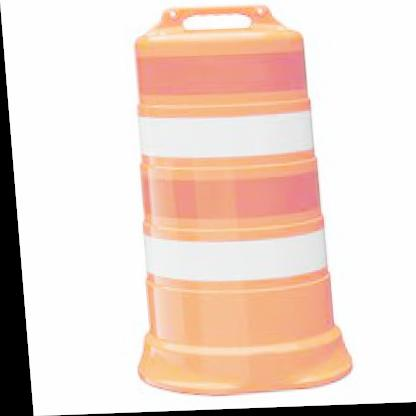obstacle: (121, 9, 335, 370)
